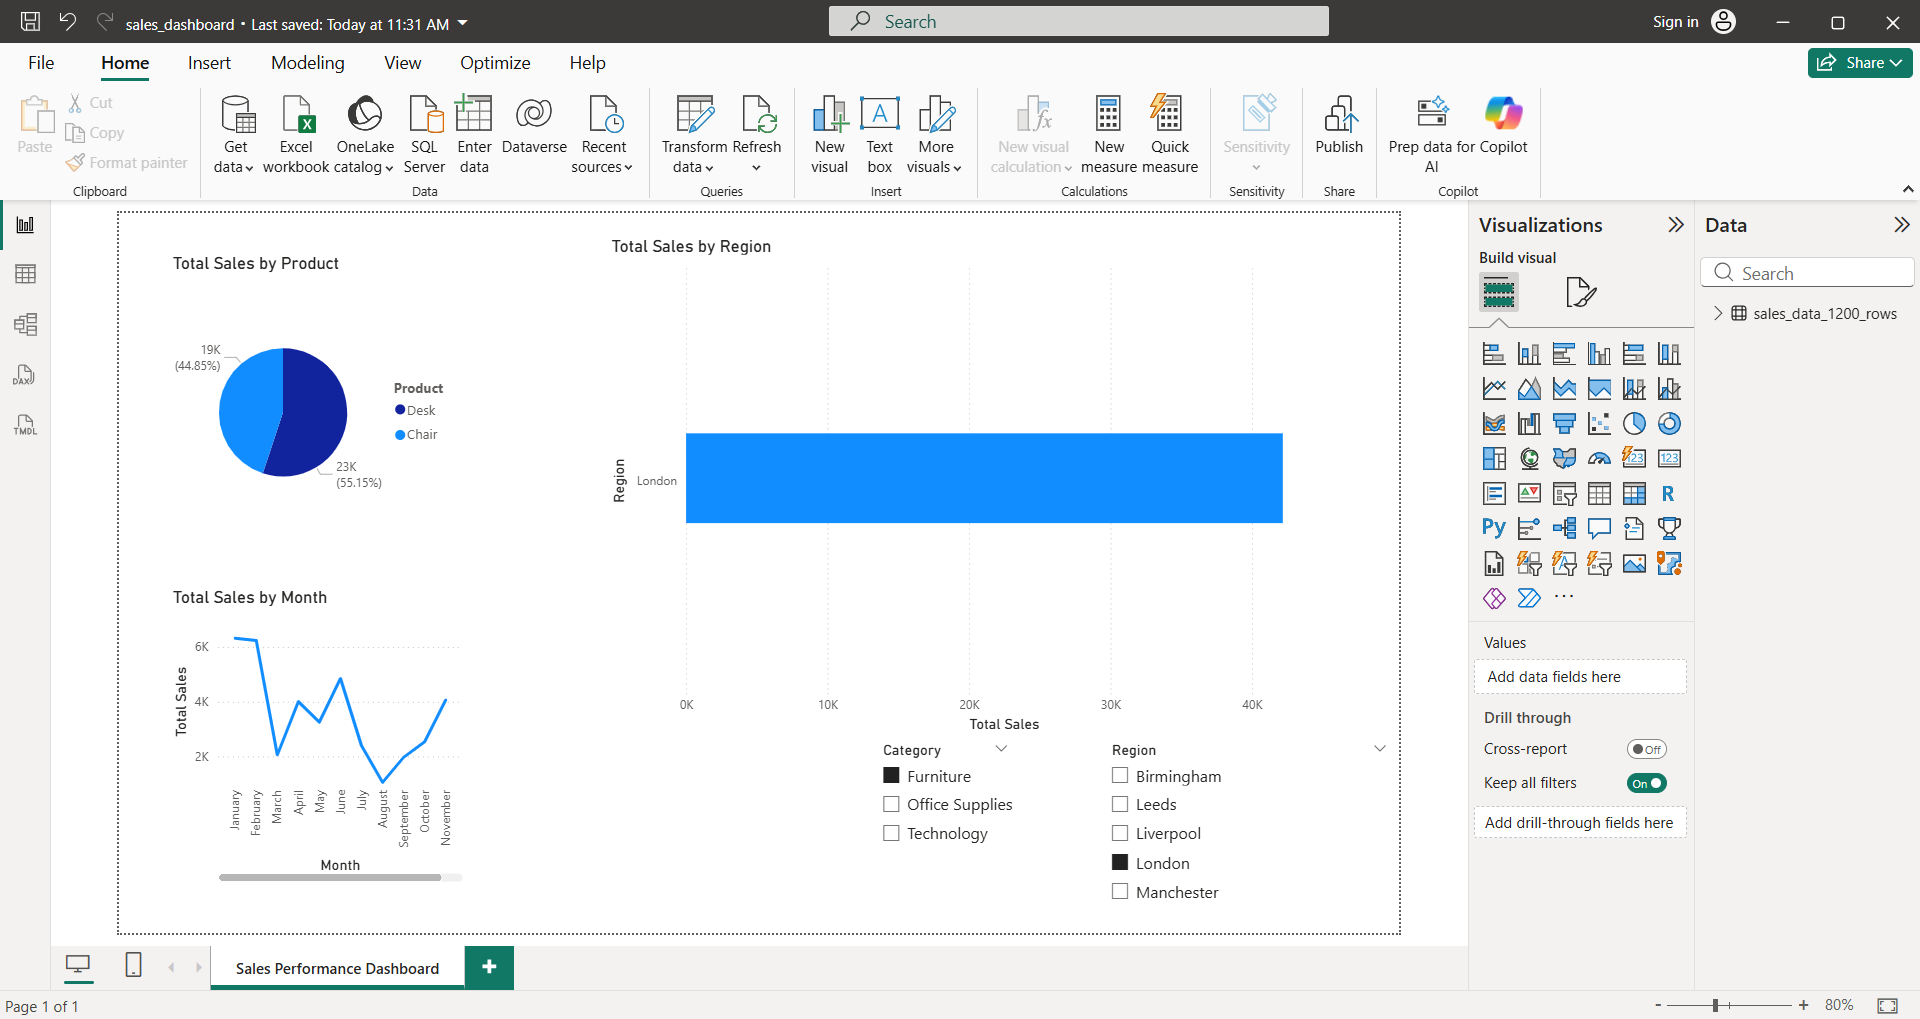

The dashboard page shown, as its layout file describes it:
{"tool":"powerbi","page":{"name":"Sales Performance Dashboard","canvas":[1280,720],"ordinal":0},"visuals":[{"type":"clusteredBarChart","fields":{"Category":["sales_data_1200_rows.Region"],"Y":["sales_data_1200_rows.Total Sales"]},"box":[487.1,22.9,731.4,501.4],"z":0},{"type":"lineChart","fields":{"Category":["sales_data_1200_rows.Date.Variation.Date Hierarchy.Month"],"Y":["sales_data_1200_rows.Total Sales"]},"box":[48.6,374.3,300,300],"z":1},{"type":"pieChart","fields":{"Category":["sales_data_1200_rows.Product"],"Y":["sales_data_1200_rows.Total Sales"]},"box":[48.6,40,300,300],"z":2},{"type":"slicer","fields":{"Values":["sales_data_1200_rows.Region"]},"box":[980,524.3,300,195.7],"z":4},{"type":"slicer","fields":{"Values":["sales_data_1200_rows.Category"]},"box":[751.4,524.3,150,195.7],"z":5}]}

Visuals, with their boxes on the page's 1280x720 design canvas (x1, y1, x2, y2). These are canvas units, not pixel positions in the 1920x1019 screenshot, which may show the page scaled, cropped or inside an application window:
clusteredBarChart - sales_data_1200_rows.Region x sales_data_1200_rows.Total Sales: (x1=487, y1=23, x2=1218, y2=524)
lineChart - sales_data_1200_rows.Date.Variation.Date Hierarchy.Month x sales_data_1200_rows.Total Sales: (x1=49, y1=374, x2=349, y2=674)
pieChart - sales_data_1200_rows.Product x sales_data_1200_rows.Total Sales: (x1=49, y1=40, x2=349, y2=340)
slicer - sales_data_1200_rows.Region: (x1=980, y1=524, x2=1280, y2=720)
slicer - sales_data_1200_rows.Category: (x1=751, y1=524, x2=901, y2=720)
